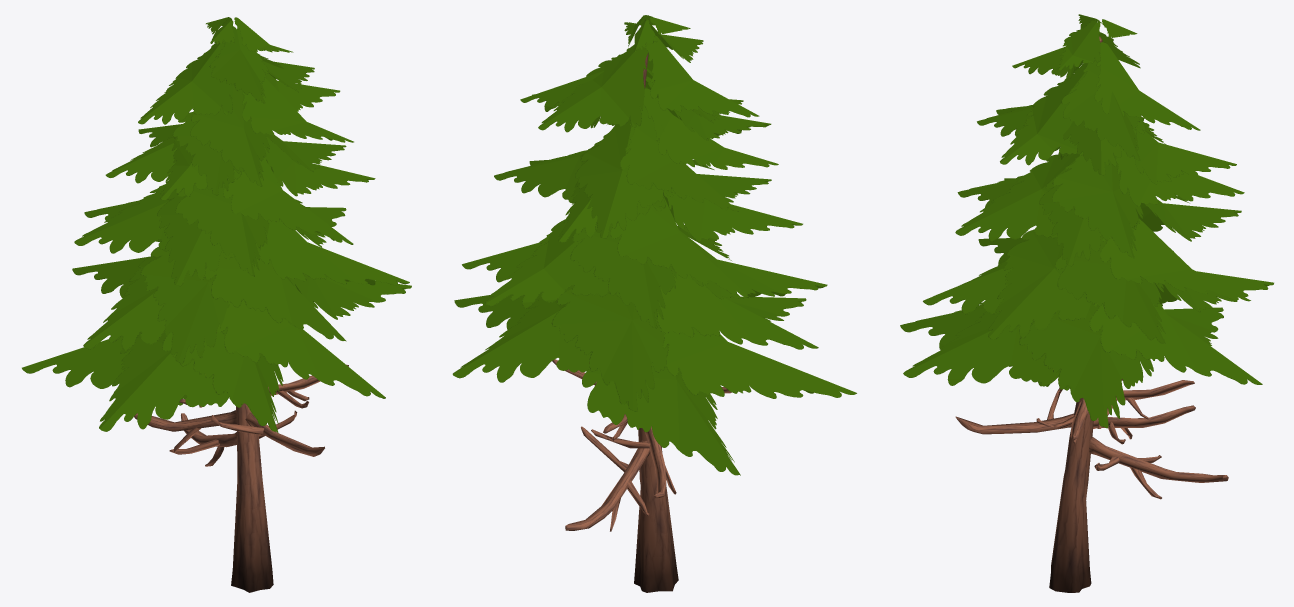
The model's file is Pine_1.glb.
3 renders of one model, left to right at view 1: azimuth 30°, elevation 25°; view 2: azimuth 150°, elevation 25°; view 3: azimuth 270°, elevation 25°, orthographic. The views are drawn at different scales.
Size of the model in its own units: 4.94 by 7.32 by 4.54.
Materials: 2 (2 with a texture image).
